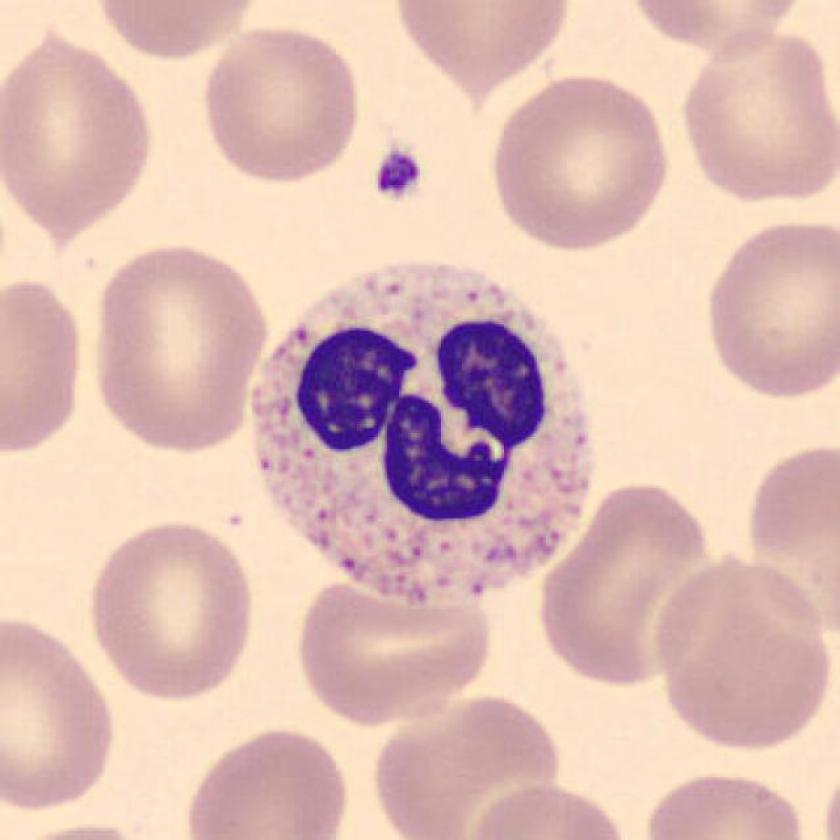neutrophil: (253, 263, 592, 601)
